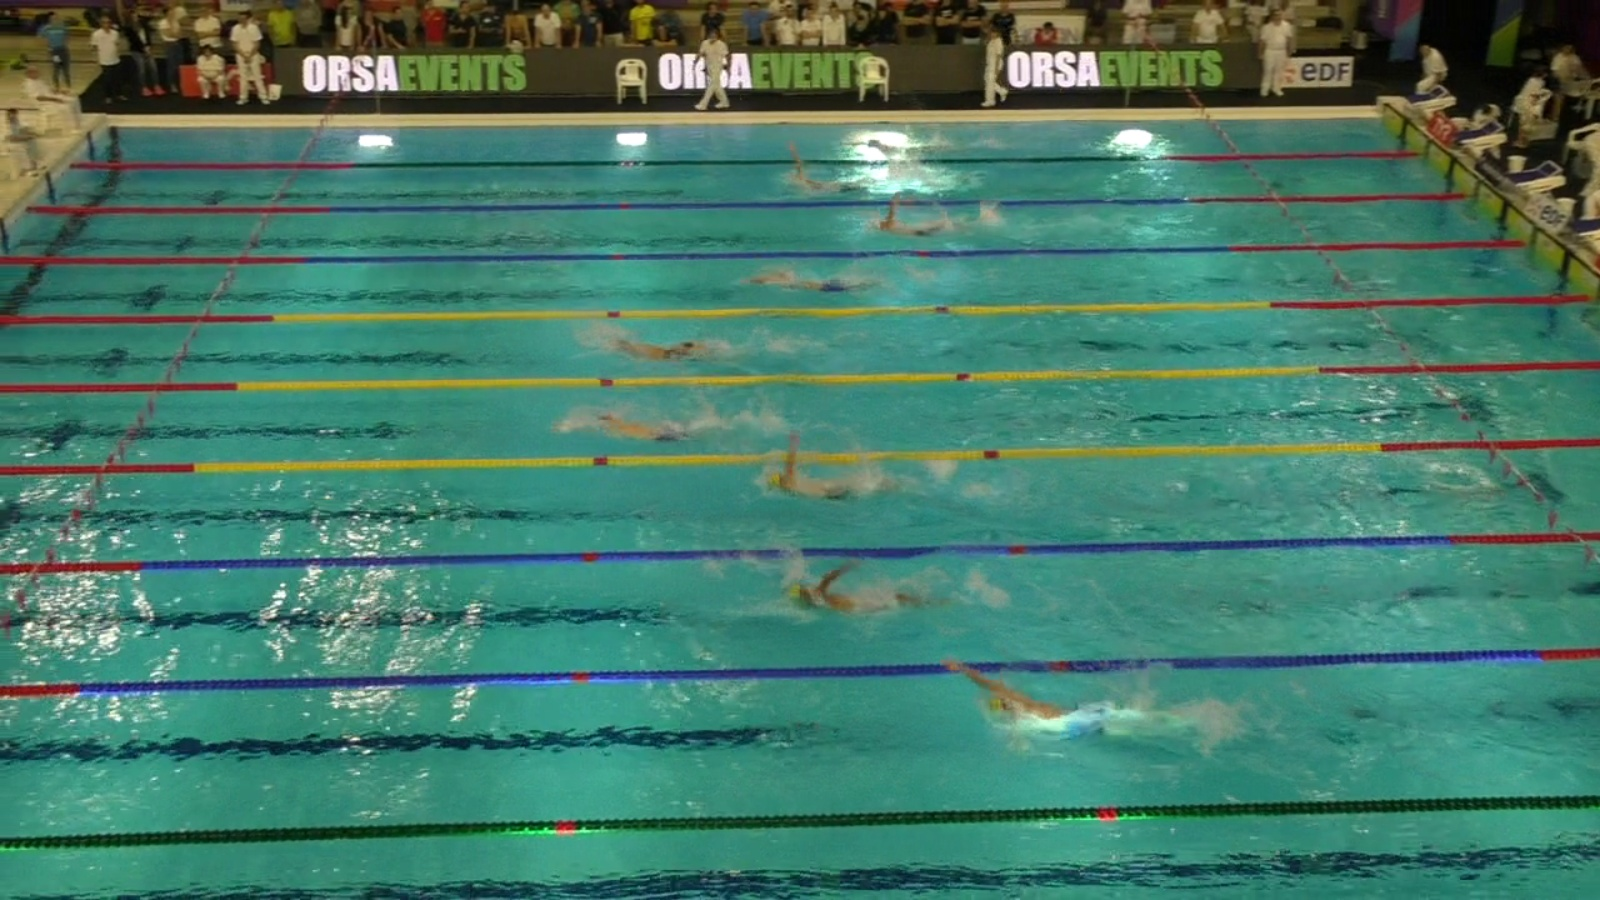swimmerwdd: (947, 656, 1190, 743), (766, 432, 916, 513), (785, 560, 962, 619), (582, 407, 721, 444), (782, 149, 878, 200), (874, 193, 969, 243), (601, 331, 714, 371), (745, 271, 885, 296), (857, 127, 955, 162)
